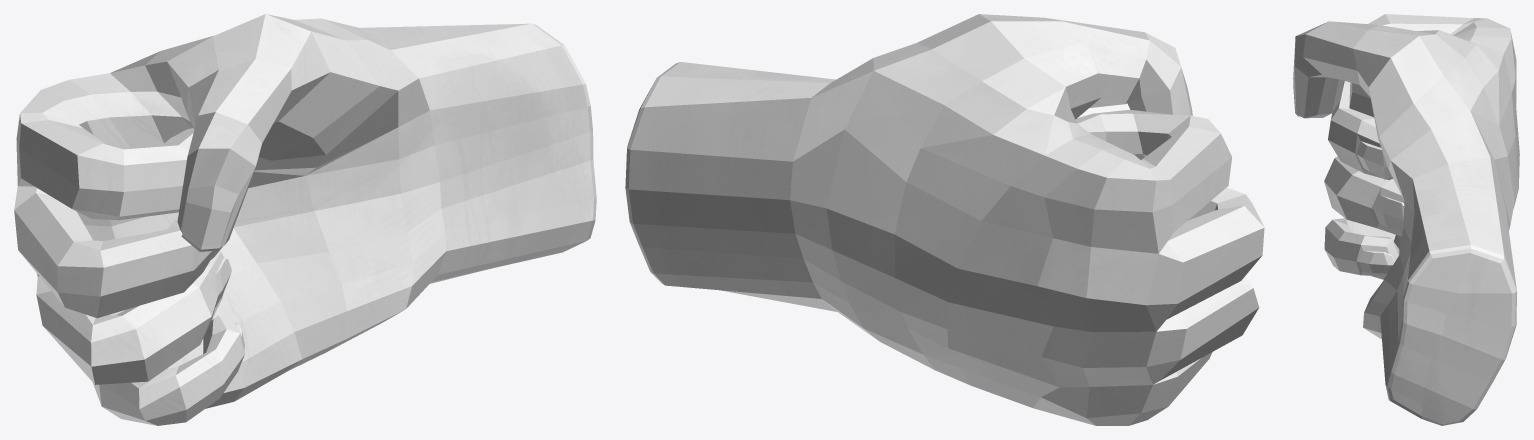
File: r_hard_rock.glb
3 renders of one model, left to right at view 1: azimuth 30°, elevation 25°; view 2: azimuth 150°, elevation 25°; view 3: azimuth 270°, elevation 25°, orthographic. The views are drawn at different scales.
Parts seen in each view (by area): view 1: R_Hard_Rock; view 2: R_Hard_Rock; view 3: R_Hard_Rock.
Boxes of the visible parts, bbox=[...] form: R_Hard_Rock: bbox=[14, 14, 596, 425]; R_Hard_Rock: bbox=[625, 14, 1264, 425]; R_Hard_Rock: bbox=[1293, 14, 1519, 425].
Bounding box in the file's own units: 0.1743 × 0.1105 × 0.0732.
Materials: 1 (1 with a texture image).
